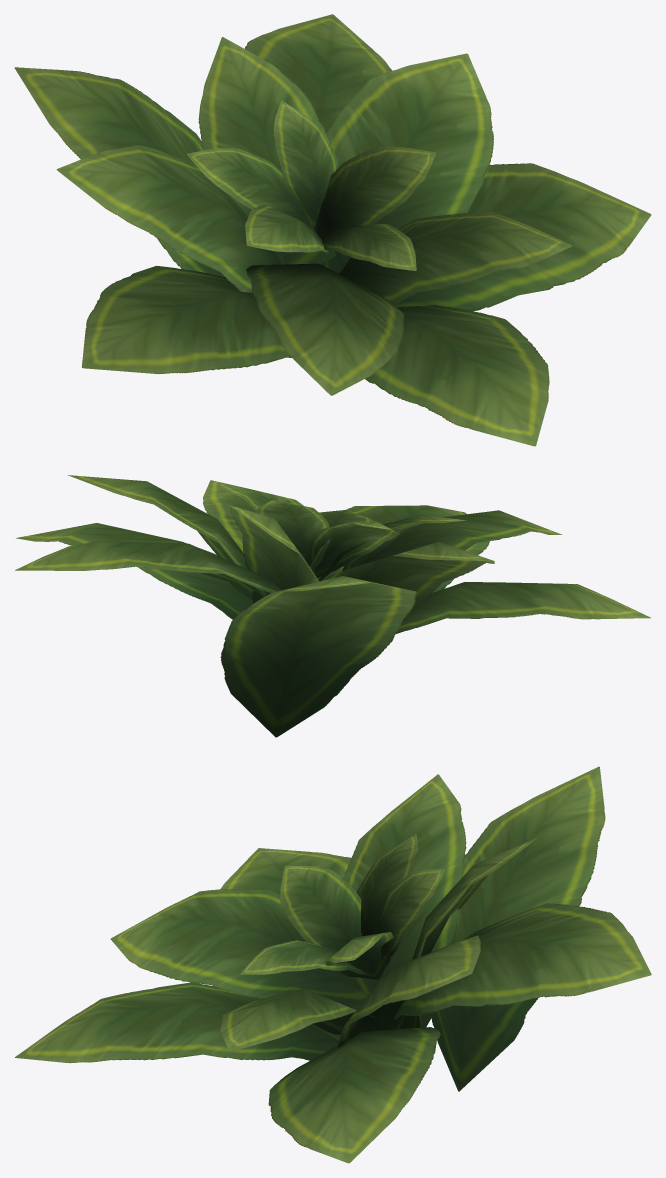
Rendered from Desert_plants_01.fbx.
3 views of the same model, one above another, from view 1: azimuth 30°, elevation 25°; view 2: azimuth 150°, elevation 25°; view 3: azimuth 270°, elevation 25° (orthographic). The views are drawn at different scales.
Parts seen in each view (by area): view 1: Desert_plants_01; view 2: Desert_plants_01; view 3: Desert_plants_01.
Boxes of the visible parts, bbox=[...] form: Desert_plants_01: bbox=[14, 14, 651, 446]; Desert_plants_01: bbox=[15, 475, 650, 737]; Desert_plants_01: bbox=[15, 766, 651, 1163].
Size of the model in its own units: 197 by 82.42 by 186.
